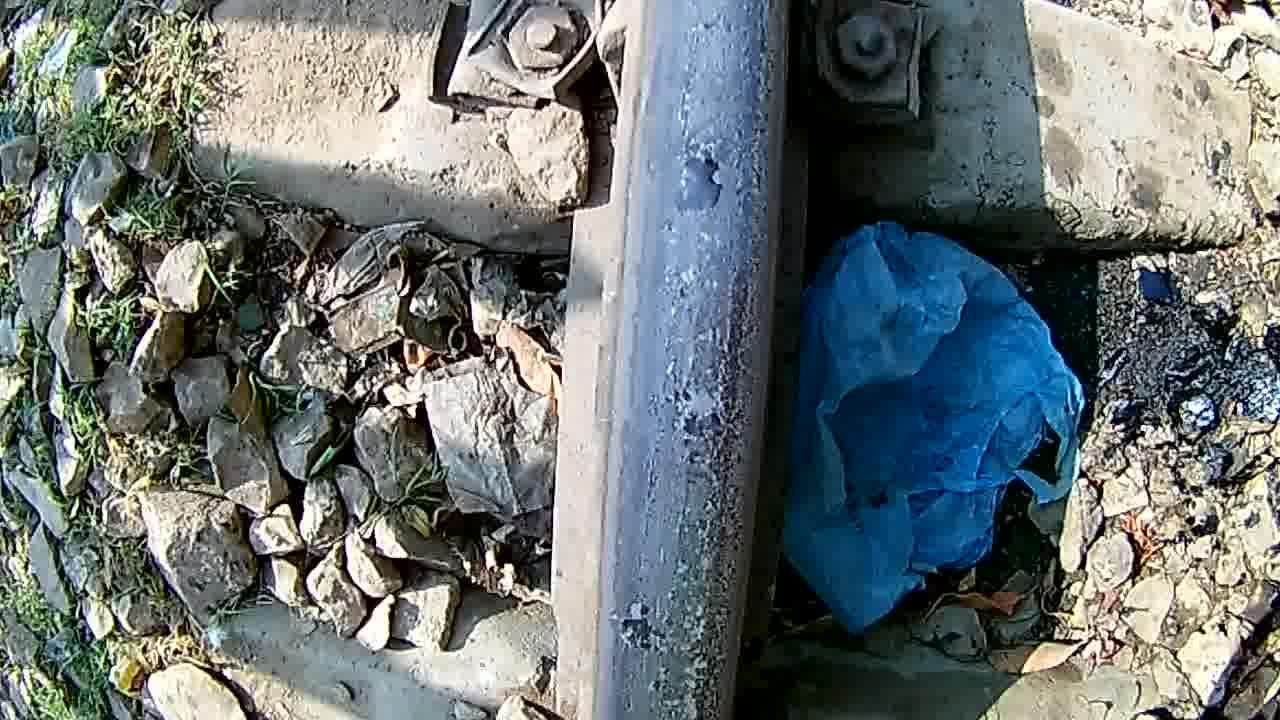crack: (602, 0, 788, 720)
